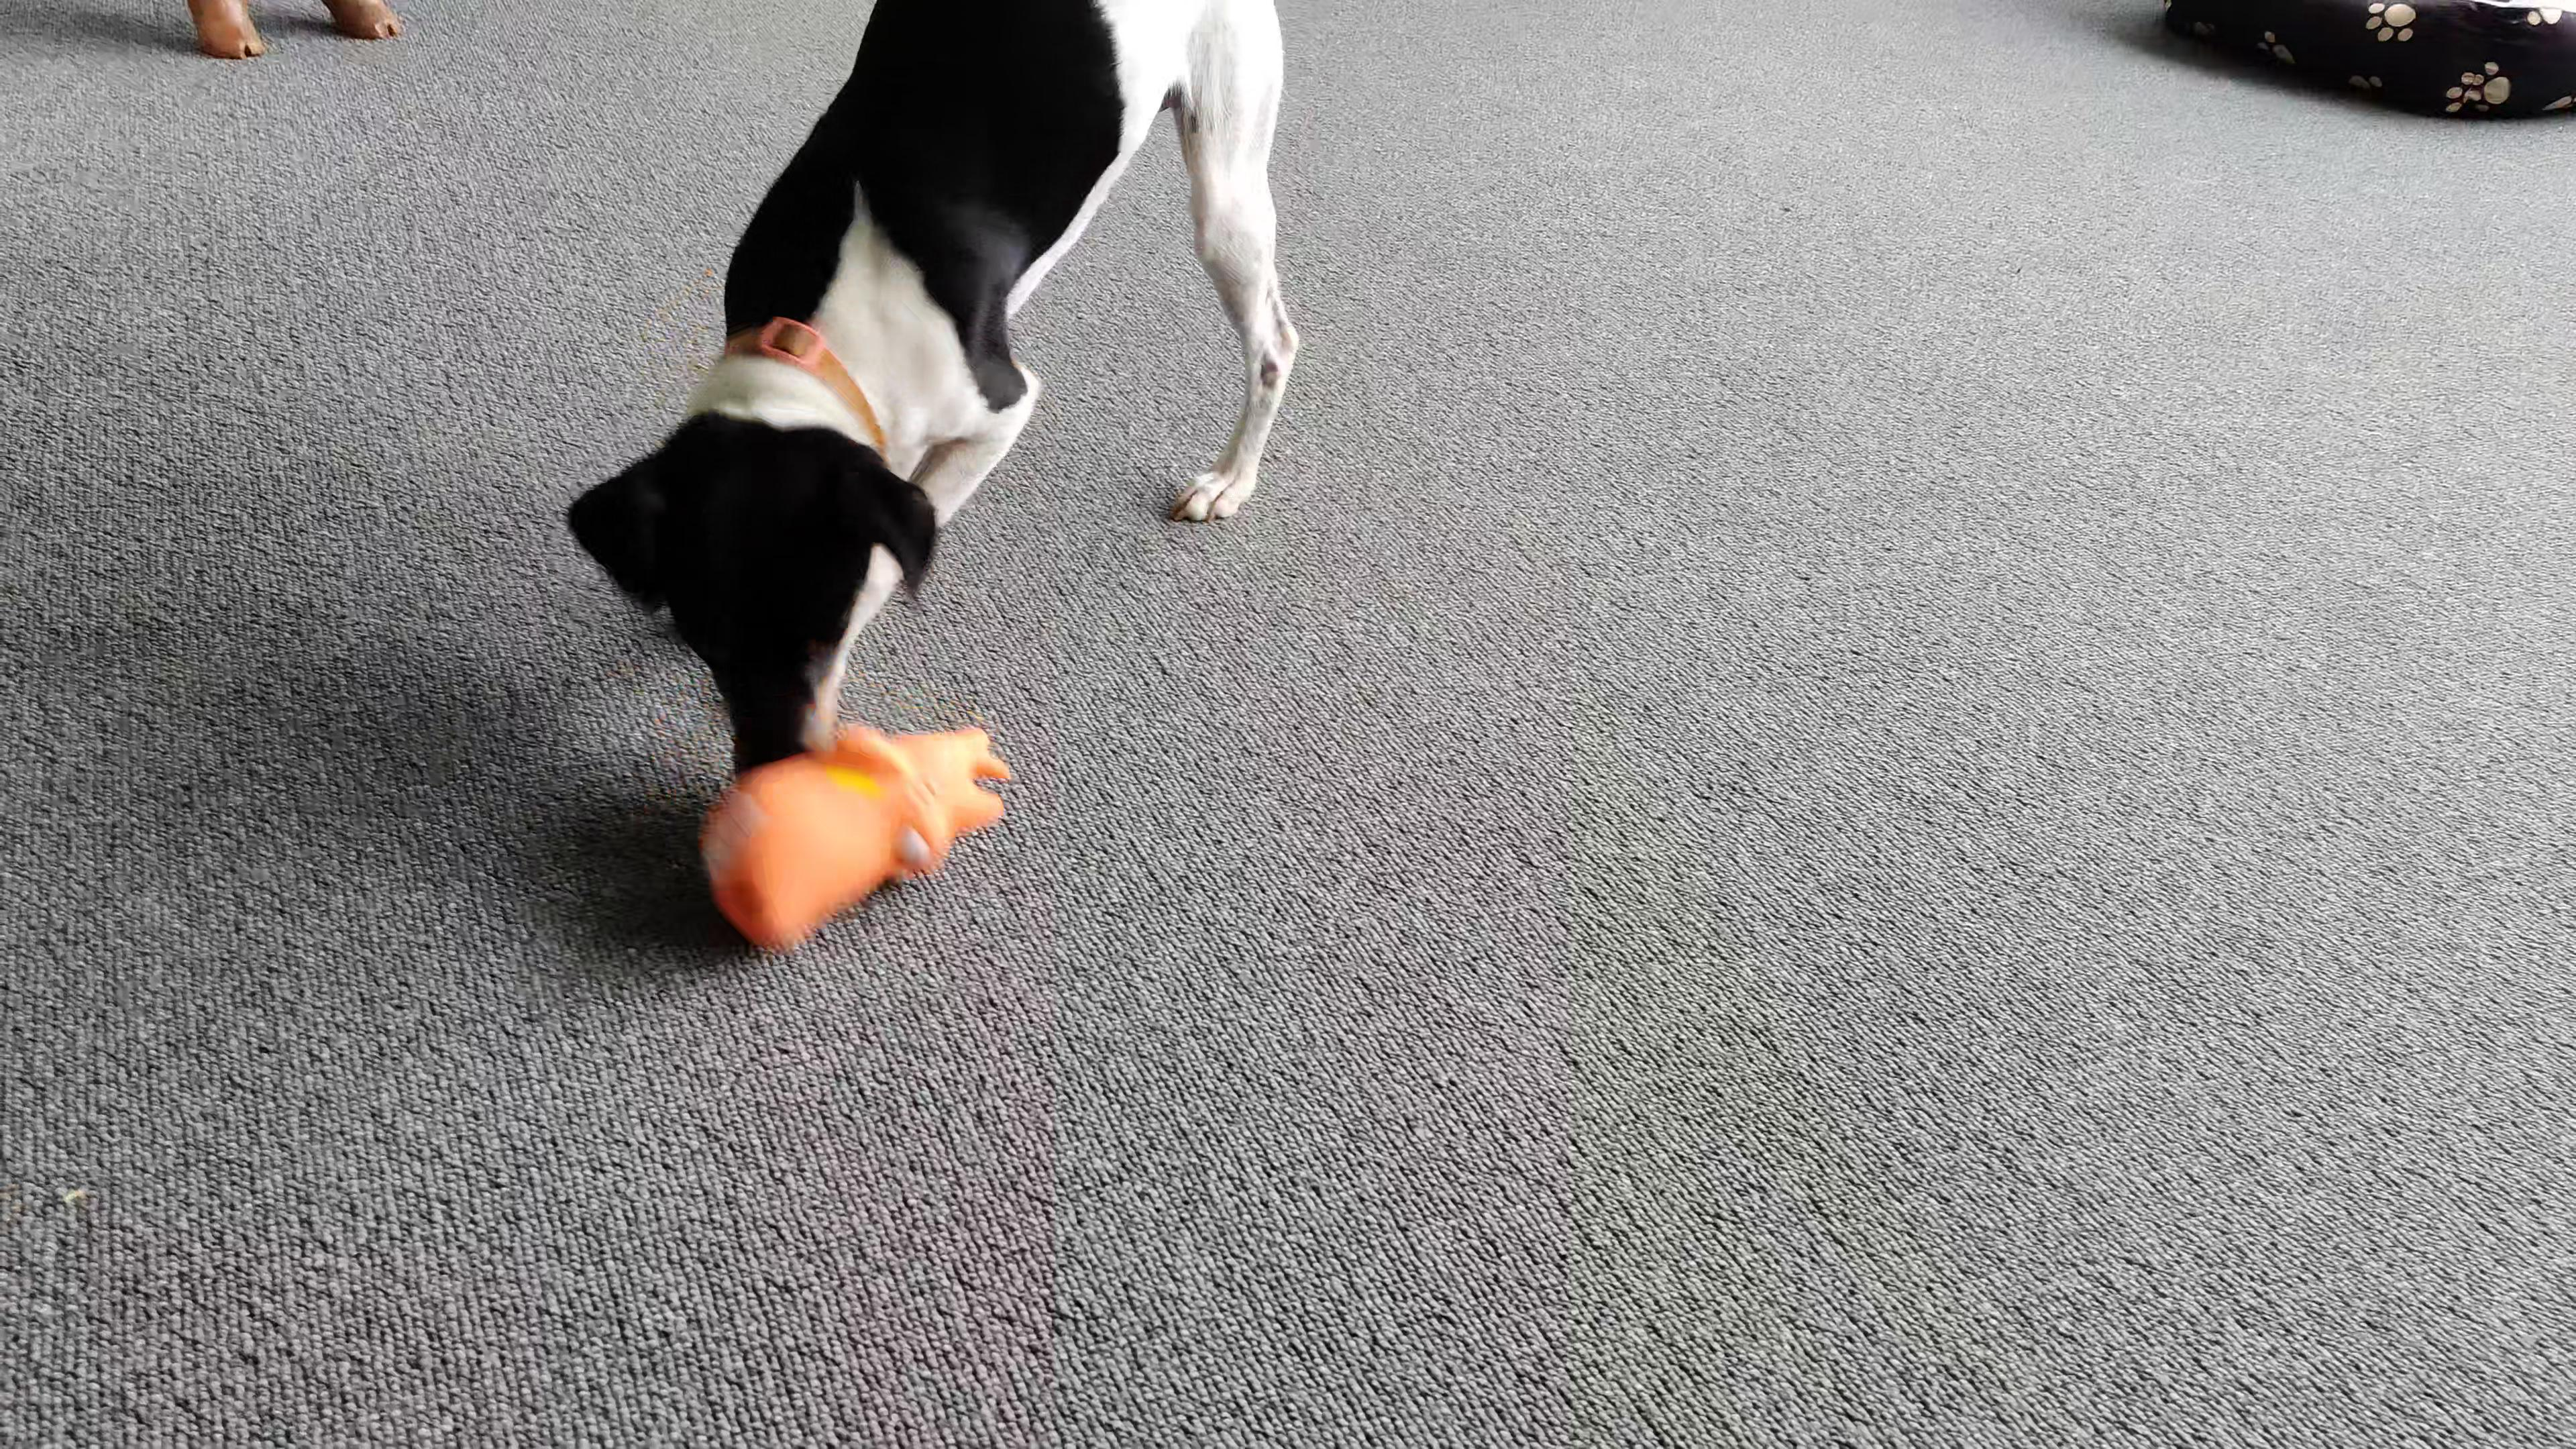Dog: (557, 0, 1307, 787)
